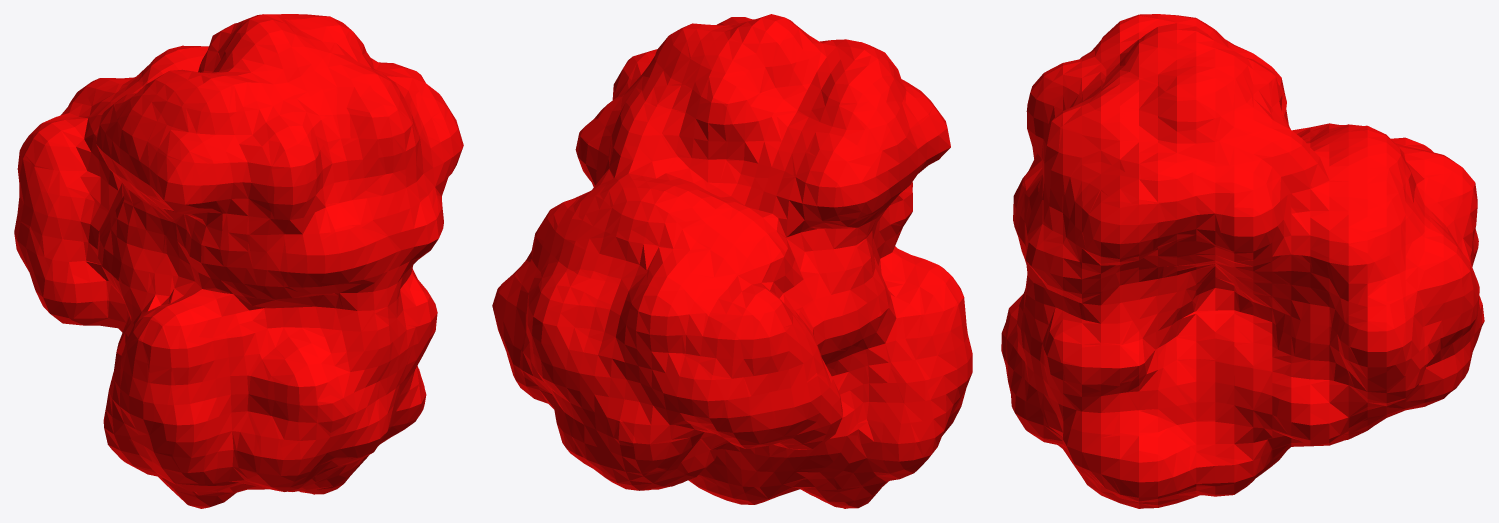
File: psuG_coarse.dae
3 renders of one model, left to right at view 1: azimuth 30°, elevation 25°; view 2: azimuth 150°, elevation 25°; view 3: azimuth 270°, elevation 25°, orthographic. The views are drawn at different scales.
Parts seen in each view (by area): view 1: psuG; view 2: psuG; view 3: psuG.
Boxes of the visible parts, <box> form: psuG: <box>14,14,463,508</box>; psuG: <box>492,14,972,508</box>; psuG: <box>1001,14,1484,508</box>.
Size of the model in its own units: 61.01 by 81.85 by 76.8.
